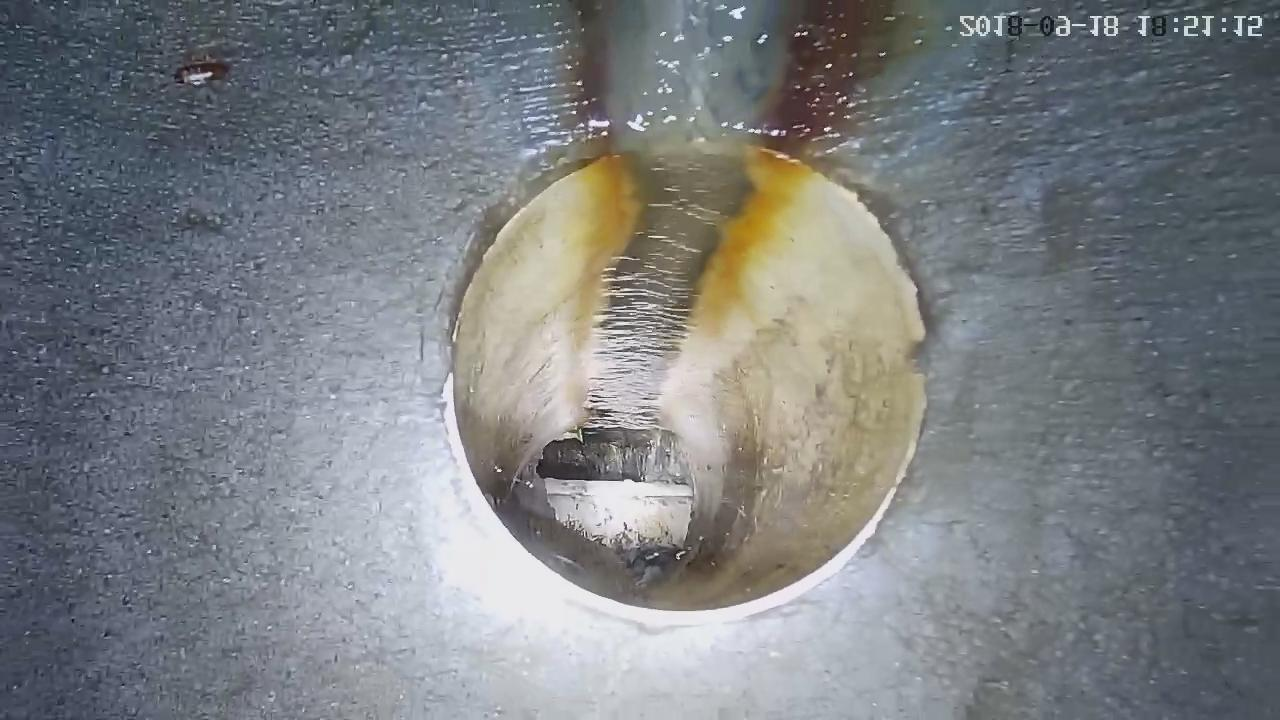YWCR: (544, 479, 693, 552)
